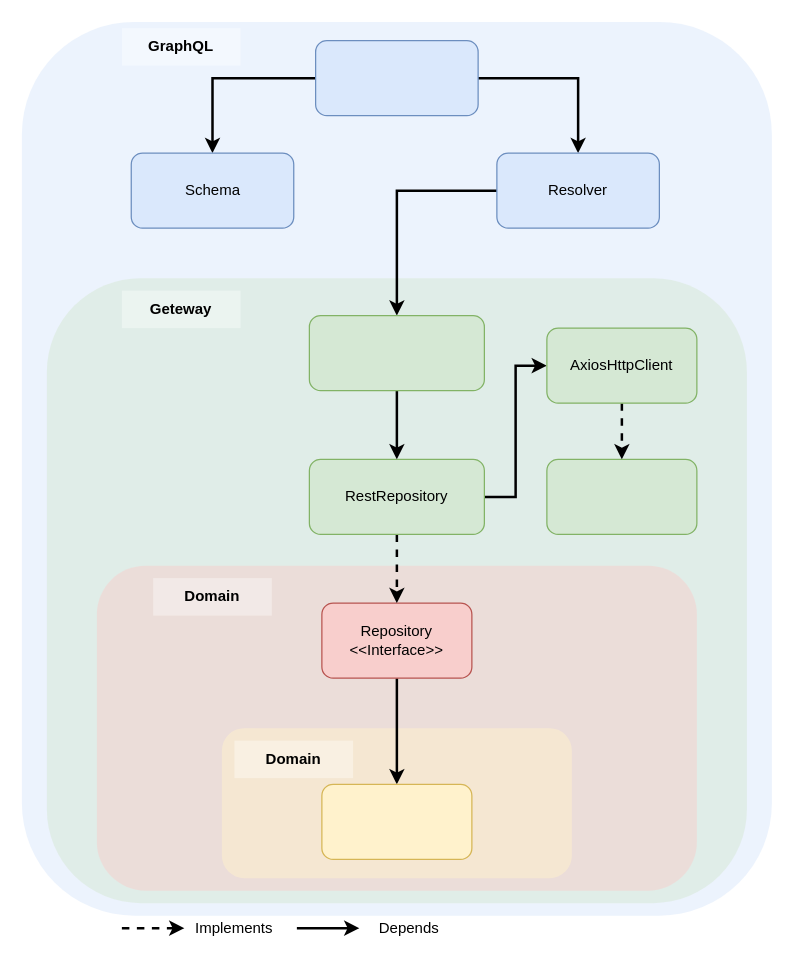
Image size: 793x961. Some labels were removed from this diagram. Here are the shapes that lost their labels. From the top down, the centre of each, then its label:
At (396,77): "Apollo Service".
At (396,352): "Factory".
At (621,496): "IHttpClient <<Interface>>".
At (396,821): "Entity <<Type>>".
